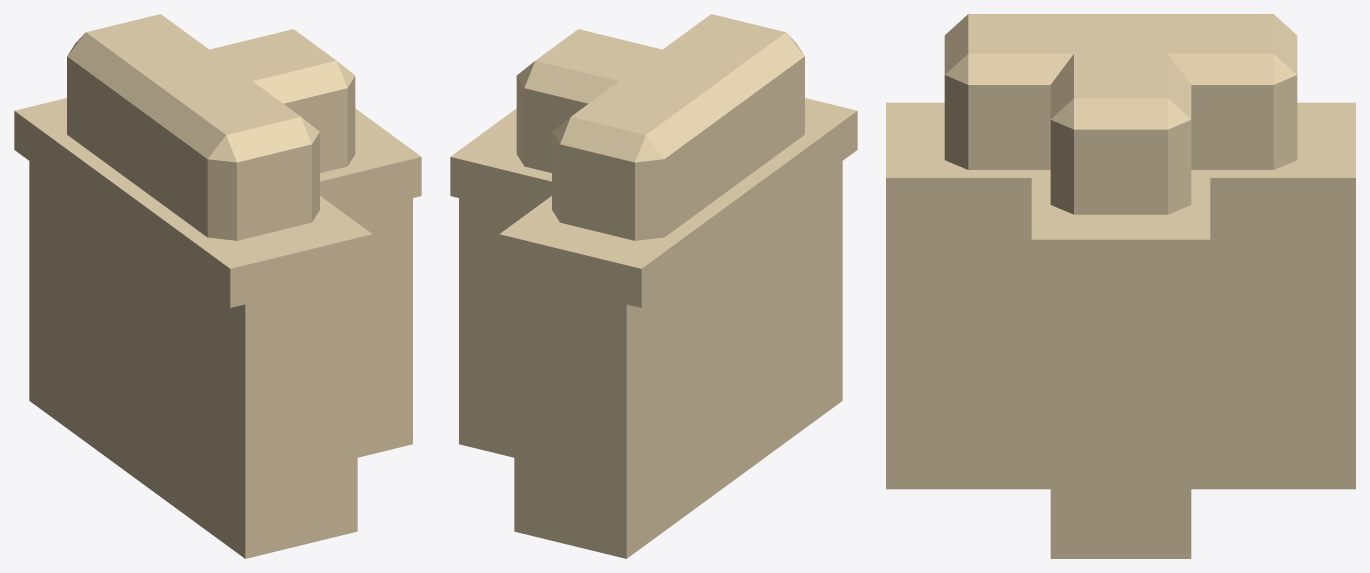
File: wall_tri_base.glb
3 views of the same model, side by side, from view 1: azimuth 30°, elevation 25°; view 2: azimuth 150°, elevation 25°; view 3: azimuth 270°, elevation 25° (orthographic). The views are drawn at different scales.
Visible parts, largest first — view 1: wall; view 2: wall; view 3: wall.
Part boxes in pixels (bbox=[...]): wall: bbox=[14, 14, 421, 558]; wall: bbox=[450, 14, 857, 558]; wall: bbox=[886, 14, 1355, 558].
Size of the model in its own units: 0.69 by 1 by 1.
